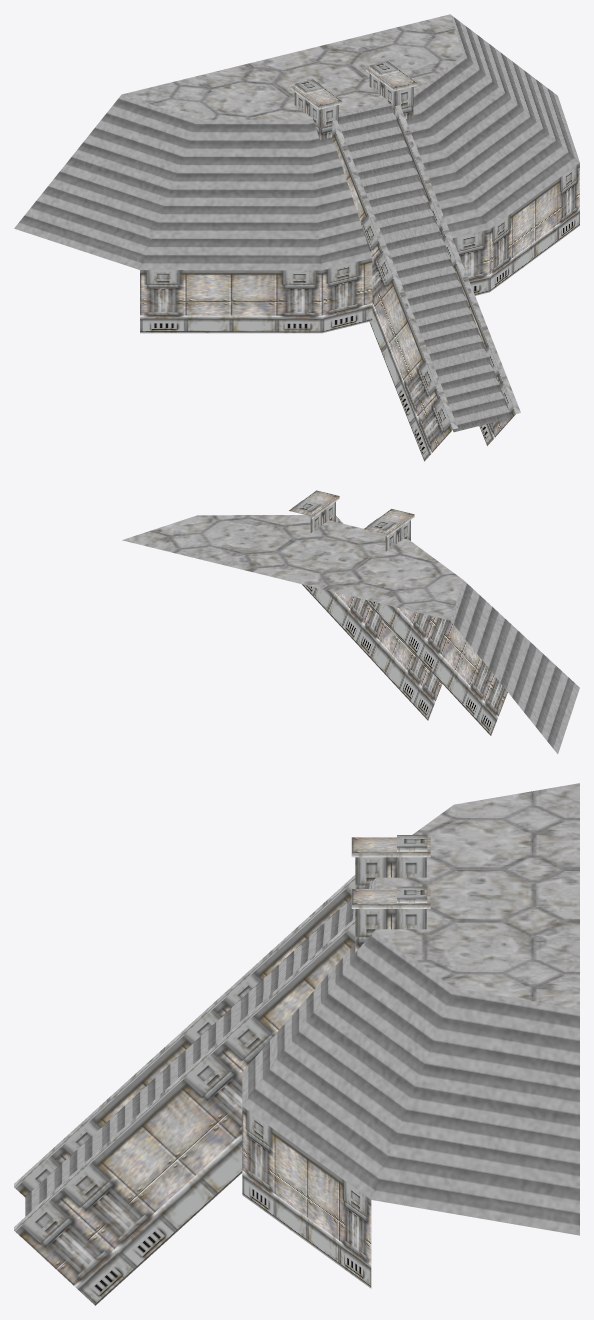
The model's file is s_main_stairs.glb.
3 views of the same model, one above another, from view 1: azimuth 30°, elevation 25°; view 2: azimuth 150°, elevation 25°; view 3: azimuth 270°, elevation 25° (orthographic). The views are drawn at different scales.
Visible parts, largest first — view 1: S_HC_Stairs; view 2: S_HC_Stairs; view 3: S_HC_Stairs.
Boxes of the visible parts, left/top/right/bottom form: S_HC_Stairs: left=14, top=14, right=579, bottom=461; S_HC_Stairs: left=122, top=490, right=579, bottom=753; S_HC_Stairs: left=14, top=783, right=579, bottom=1305.
Size of the model in its own units: 47.49 by 24.59 by 30.34.
3 materials, 3 textured.
